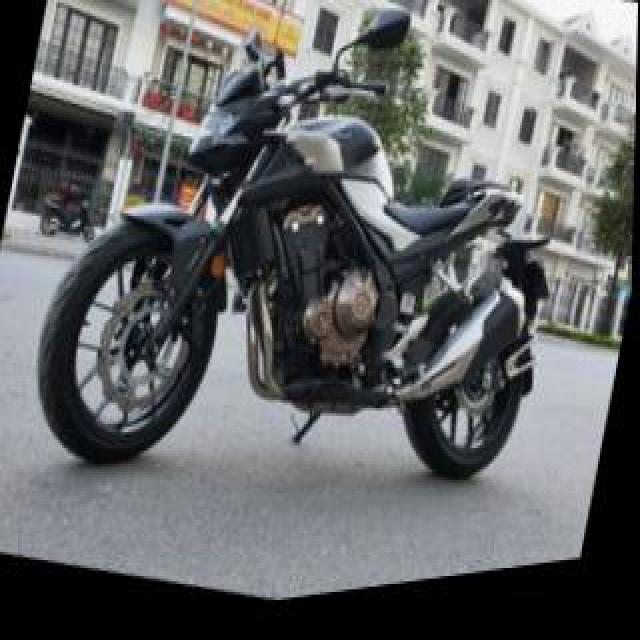CB500F: (16, 0, 584, 603)
